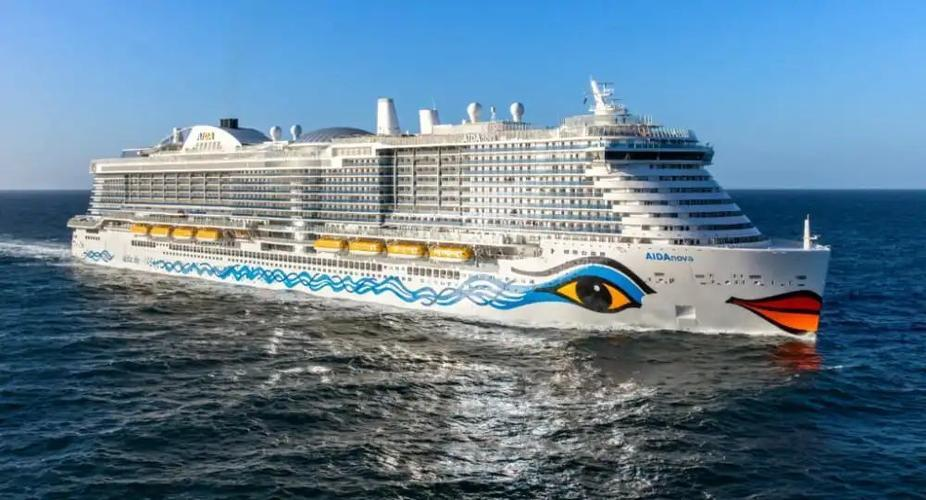Ship: (51, 63, 839, 348)
